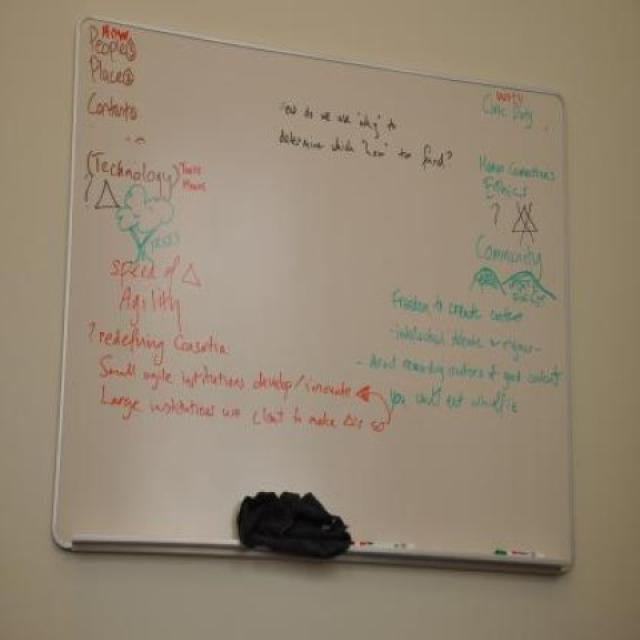White-board: (58, 15, 568, 567)
